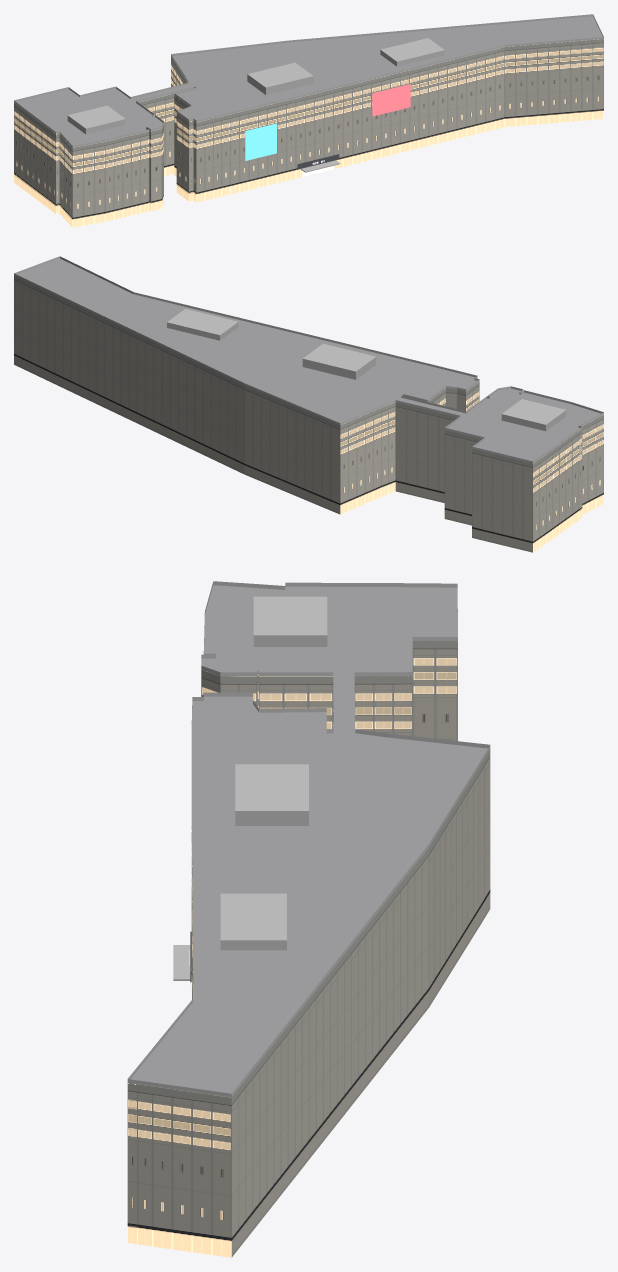
Rendered from ikebukuro_station.glb.
3 views of the same model, one above another, from view 1: azimuth 30°, elevation 25°; view 2: azimuth 150°, elevation 25°; view 3: azimuth 270°, elevation 25° (orthographic). The views are drawn at different scales.
Parts seen in each view (by area): view 1: IK_Station; view 2: IK_Station; view 3: IK_Station.
Part boxes in pixels (left/top/right/bottom): IK_Station: left=14, top=14, right=603, bottom=227; IK_Station: left=14, top=256, right=603, bottom=552; IK_Station: left=127, top=581, right=490, bottom=1257.
Bounding box in the file's own units: 330 × 52.5 × 98.6.
Materials: 9 (2 with a texture image).
